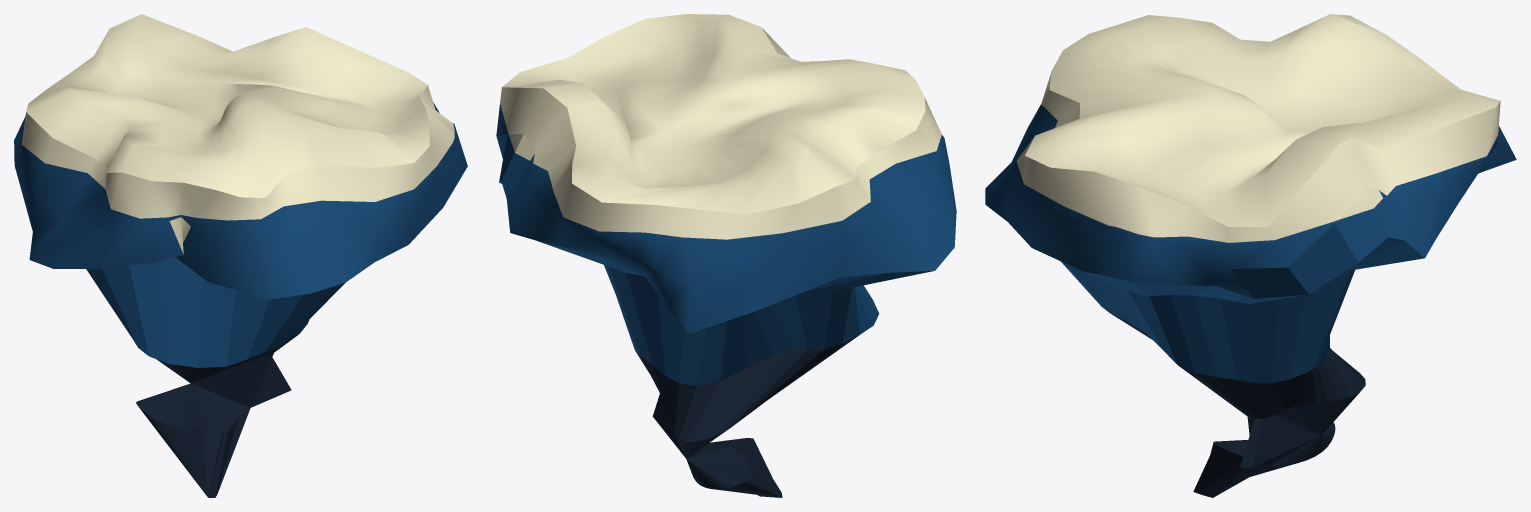
File: rock020.FBX
The picture shows the model from 3 angles, left to right: view 1: azimuth 30°, elevation 25°; view 2: azimuth 150°, elevation 25°; view 3: azimuth 270°, elevation 25°; orthographic projection. The views are drawn at different scales.
Parts seen in each view (by area): view 1: rock_020; view 2: rock_020; view 3: rock_020.
Part boxes in pixels (x1=…): rock_020: x1=14, y1=14, x2=467, y2=497; rock_020: x1=496, y1=14, x2=956, y2=497; rock_020: x1=985, y1=14, x2=1516, y2=497.
Bounding box in the file's own units: 11.04 × 10.22 × 11.3.
